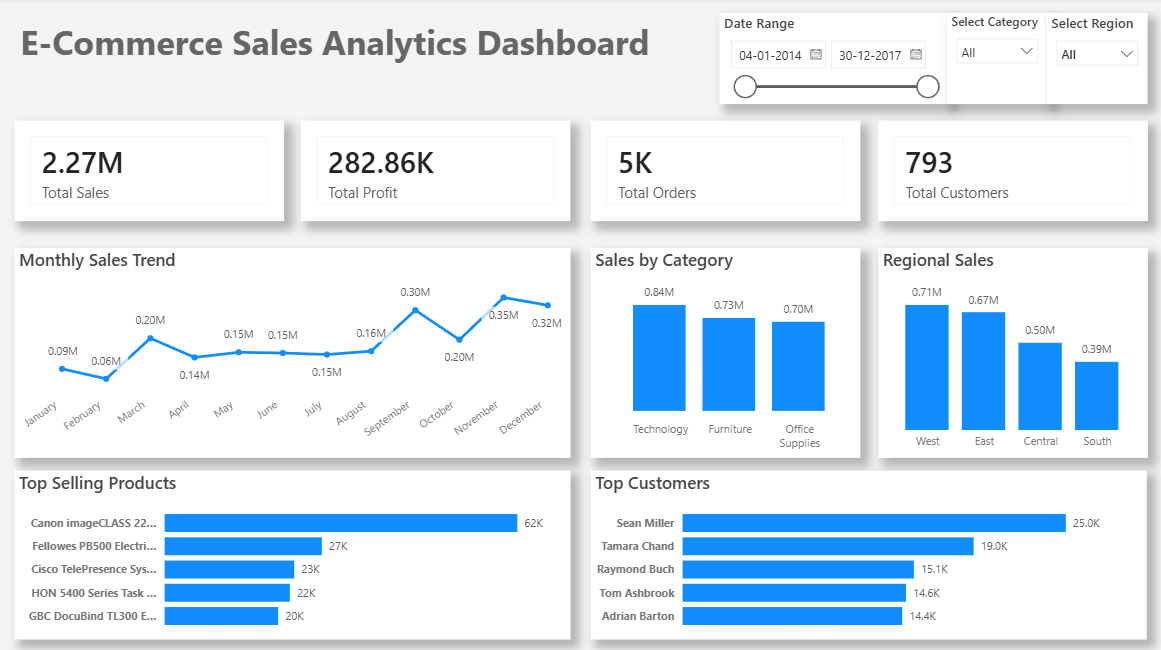

The page's visual inventory and layout, read from the dashboard file:
{"tool":"powerbi","page":{"name":"Page 1","canvas":[1280,720],"ordinal":0},"visuals":[{"type":"cardVisual","fields":{"Data":["Orders.Total Sales"]},"box":[18.6,134.3,295.7,110],"z":0},{"type":"cardVisual","fields":{"Data":["Orders.Total Profit"]},"box":[332.9,134.3,295.7,110],"z":1000},{"type":"cardVisual","fields":{"Data":["Orders.Total Orders"]},"box":[651.4,134.3,295.7,110],"z":2000},{"type":"cardVisual","fields":{"Data":["Orders.Total Customers"]},"box":[967.1,134.3,295.7,110],"z":3000},{"type":"lineClusteredColumnComboChart","title":"Monthly Sales Trend","fields":{"Category":["Orders.Order Date.Variation.Date Hierarchy.Month"],"Y2":["Sum(Orders.Sales)"]},"box":[18.6,274.3,610,230],"z":4000},{"type":"clusteredColumnChart","title":"Regional Sales","fields":{"Category":["Orders.Region"],"Y":["Sum(Orders.Sales)"]},"box":[967.1,274.3,295.7,230],"z":5000},{"type":"clusteredColumnChart","title":"Sales by Category","fields":{"Category":["Orders.Category"],"Y":["Sum(Orders.Sales)"]},"box":[651.4,274.3,295.7,230],"z":6000},{"type":"barChart","title":"Top Selling Products","fields":{"Y":["Sum(Orders.Sales)"],"Category":["Orders.Product Name"]},"box":[18.6,518.6,610,185.7],"z":7000},{"type":"barChart","title":"Top Customers","fields":{"Category":["Orders.Customer Name"],"Y":["Sum(Orders.Sales)"]},"box":[651.4,518.6,610,185.7],"z":8000},{"type":"slicer","title":"Date Range","fields":{"Values":["Orders.Order Date"]},"box":[792.9,17.1,250,100],"z":9000},{"type":"slicer","title":"Select Category","fields":{"Values":["Orders.Category"]},"box":[1042.9,17.1,110,100],"z":10000},{"type":"slicer","title":"Select Region","fields":{"Values":["Orders.Region"]},"box":[1152.9,17.1,110,100],"z":11000},{"type":"textbox","box":[20.6,17.8,763,70],"z":12000}]}

Visuals, with their boxes in screenshot pixels (x1, y1, x2, y2), scaled from the page's 1280x720 canvas onto the 1161x650 screenshot:
cardVisual - Orders.Total Sales: x1=17, y1=121, x2=285, y2=221
cardVisual - Orders.Total Profit: x1=302, y1=121, x2=570, y2=221
cardVisual - Orders.Total Orders: x1=591, y1=121, x2=859, y2=221
cardVisual - Orders.Total Customers: x1=877, y1=121, x2=1145, y2=221
"Monthly Sales Trend" lineClusteredColumnComboChart: x1=17, y1=248, x2=570, y2=455
"Regional Sales" clusteredColumnChart: x1=877, y1=248, x2=1145, y2=455
"Sales by Category" clusteredColumnChart: x1=591, y1=248, x2=859, y2=455
"Top Selling Products" barChart: x1=17, y1=468, x2=570, y2=636
"Top Customers" barChart: x1=591, y1=468, x2=1144, y2=636
"Date Range" slicer: x1=719, y1=15, x2=946, y2=106
"Select Category" slicer: x1=946, y1=15, x2=1046, y2=106
"Select Region" slicer: x1=1046, y1=15, x2=1145, y2=106
textbox: x1=19, y1=16, x2=711, y2=79
